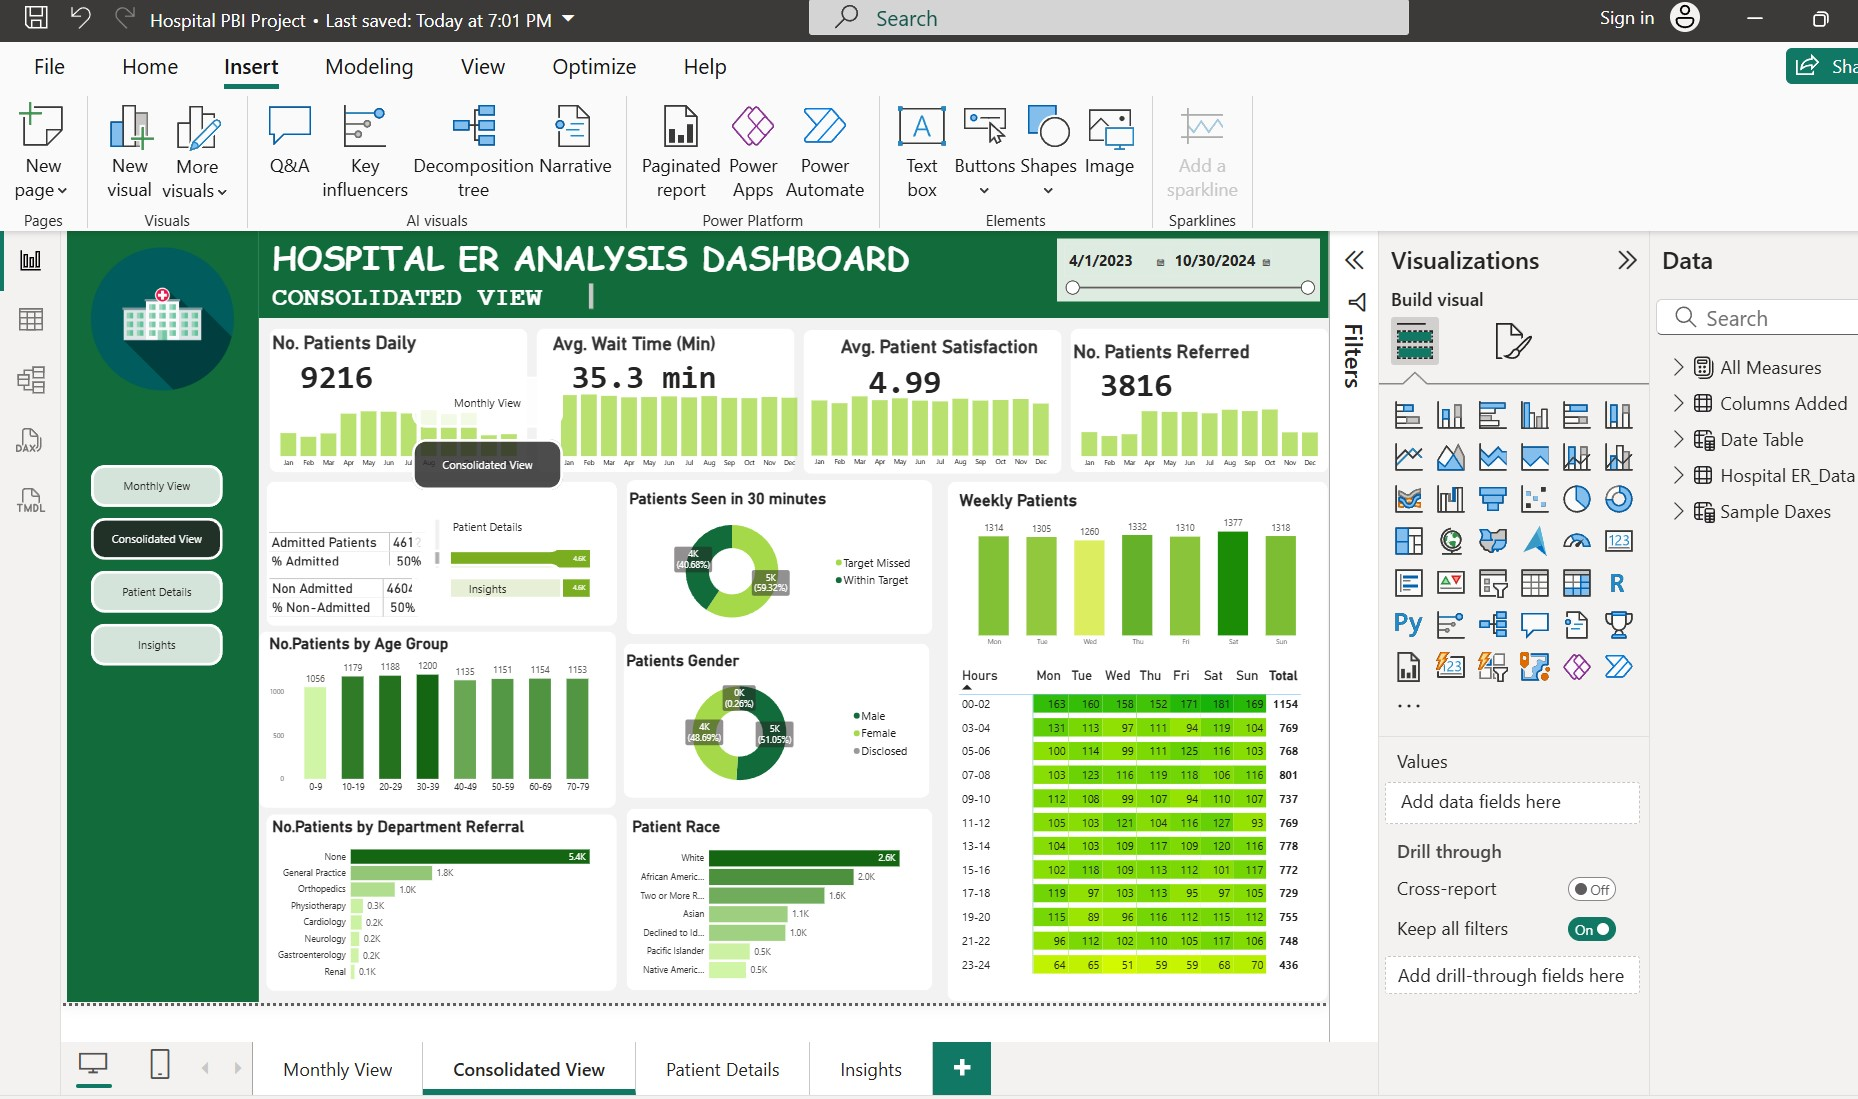

Layout of this report page (visuals, bound fields, positions):
{"tool":"powerbi","page":{"name":"Consolidated View","canvas":[2300,1400],"ordinal":1},"visuals":[{"type":"shape","box":[1025,452.5,555,280],"z":0},{"type":"shape","box":[10.9,0,348.3,1398.5],"z":1000},{"type":"shape","box":[359.2,0,1940,157.8],"z":2000},{"type":"textbox","box":[378.2,0,1276.1,108.8],"z":3000},{"type":"shape","box":[378.2,176.9,468,261.2],"z":4000},{"type":"card","fields":{"Values":["All Measures.No.of Patients"]},"box":[404.4,222.1,188.2,72.1],"z":5000},{"type":"slicer","fields":{"Values":["Date Table.Date"]},"box":[1806.6,13.6,476.1,114.3],"z":6000},{"type":"textbox","box":[377.5,90,592.5,60],"z":7000},{"type":"clusteredColumnChart","fields":{"Y":["All Measures.No.Patients"],"Category":["Date Table.Month Name"]},"box":[378,273.2,468.3,165.9],"z":8000},{"type":"textbox","box":[378,178,429.3,58.5],"z":9000},{"type":"shape","box":[862.5,178,468.3,261],"z":10000},{"type":"card","fields":{"Values":["All Measures.Ave Waiting"]},"box":[914.1,223.4,285.9,71.9],"z":11000},{"type":"clusteredColumnChart","fields":{"Y":["Hospital ER_Data.Patient Waittime"],"Category":["Date Table.Month Name"]},"box":[887.2,273.2,468.3,165.9],"z":12000},{"type":"textbox","box":[887.2,179.9,429.3,58.5],"z":13000},{"type":"shape","box":[1347.1,180.5,468.3,261],"z":14000},{"type":"card","fields":{"Values":["All Measures.Avg Satisfaction"]},"box":[1437.2,230.4,188.2,72.1],"z":15000},{"type":"clusteredColumnChart","fields":{"Y":["All Measures.Avg Satisfaction"],"Category":["Date Table.Month Name"]},"box":[1342.5,273.2,470,165],"z":16000},{"type":"textbox","box":[1409.8,185.4,397.6,58.5],"z":17000},{"type":"shape","box":[1831.7,178,468.3,261],"z":18000},{"type":"card","fields":{"Values":["All Measures.No.Referred"]},"box":[1856.9,235.6,188.2,72.1],"z":19000},{"type":"clusteredColumnChart","fields":{"Category":["Date Table.Month Name"],"Y":["All Measures.No.Referred"]},"box":[1830.6,273.2,468.3,165.9],"z":20000},{"type":"textbox","box":[1831.7,192.7,395.1,58.5],"z":21000},{"type":"shape","box":[371.4,454.8,635.7,261.9],"z":22000},{"type":"pivotTable","fields":{"Values":["All Measures.Admitted Patients","All Measures.% Admitted"]},"box":[371.4,516.7,319,102.4],"z":23000},{"type":"pivotTable","fields":{"Values":["All Measures.Non Admitted","All Measures.% Non-Admitted"]},"box":[371.4,602.4,340.5,114.3],"z":24000},{"type":"barChart","fields":{"Category":["AdmissionStatus.Status"],"Y":["AdmissionStatus.Patients Count"]},"box":[702.5,537.5,287.5,160],"z":25000},{"type":"shape","box":[360,727.5,647.5,320],"z":26000},{"type":"clusteredColumnChart","title":"No.Patients by Age Group","fields":{"Category":["Hospital ER_Data.Age group Intervals"],"Y":["All Measures.No.Patients"]},"box":[372.5,732.5,617.5,297.5],"z":27000},{"type":"shape","box":[372.5,1057.5,635,320],"z":28000},{"type":"clusteredBarChart","fields":{"Category":["Hospital ER_Data.Department Referral"],"Y":["All Measures.No.Patients"]},"box":[377.5,1062.5,612.5,310],"z":29000},{"type":"donutChart","title":"Patients Seen in 30 minutes","fields":{"Category":["Hospital ER_Data.Waittime Status"],"Y":["All Measures.No.Patients"]},"box":[1025,467.5,530,265],"z":30000},{"type":"shape","box":[1021.7,747.5,555,280],"z":31000},{"type":"donutChart","title":"Patients Gender","fields":{"Y":["All Measures.No.Patients"],"Category":["Hospital ER_Data.Patient Gender"]},"box":[1021.7,762.5,530,265],"z":32000},{"type":"shape","box":[1025,1047.5,555,330],"z":33000},{"type":"clusteredBarChart","title":"Patient Race","fields":{"Y":["All Measures.No.Patients"],"Category":["Hospital ER_Data.Patient Race"]},"box":[1032.5,1062.5,522.5,310],"z":34000},{"type":"shape","box":[1607.5,455,690,942.5],"z":35000},{"type":"pivotTable","fields":{"Rows":["Hospital ER_Data.Hour Interval"],"Columns":["Date Table.Day Name"],"Values":["All Measures.No.Patients"]},"box":[1625,782.5,657.5,572.5],"z":36000},{"type":"clusteredColumnChart","title":"Weekly Patients","fields":{"Y":["All Measures.No.Patients"],"Category":["Date Table.Day Name"]},"box":[1625,470,657.5,292.5],"z":37000},{"type":"group","id":"g1","title":"Group 1","box":[637,265.2,274.8,433.5],"z":38000},{"type":"pageNavigator","box":[637,265.2,274.8,433.5],"z":39000,"group":"g1"},{"type":"pageNavigator","box":[53.1,425.2,239.4,364.6],"z":40000},{"type":"image","box":[49,24.5,269.4,269.4],"z":40001}]}

Visuals, with their boxes on the page's 2300x1400 design canvas (x1, y1, x2, y2). These are canvas units, not pixel positions in the 1858x1099 screenshot, which may show the page scaled, cropped or inside an application window:
shape: box(1025, 452, 1580, 732)
shape: box(11, 0, 359, 1398)
shape: box(359, 0, 2299, 158)
textbox: box(378, 0, 1654, 109)
shape: box(378, 177, 846, 438)
card - All Measures.No.of Patients: box(404, 222, 593, 294)
slicer - Date Table.Date: box(1807, 14, 2283, 128)
textbox: box(378, 90, 970, 150)
clusteredColumnChart - All Measures.No.Patients x Date Table.Month Name: box(378, 273, 846, 439)
textbox: box(378, 178, 807, 236)
shape: box(862, 178, 1331, 439)
card - All Measures.Ave Waiting: box(914, 223, 1200, 295)
clusteredColumnChart - Hospital ER_Data.Patient Waittime x Date Table.Month Name: box(887, 273, 1356, 439)
textbox: box(887, 180, 1316, 238)
shape: box(1347, 180, 1815, 442)
card - All Measures.Avg Satisfaction: box(1437, 230, 1625, 302)
clusteredColumnChart - All Measures.Avg Satisfaction x Date Table.Month Name: box(1342, 273, 1812, 438)
textbox: box(1410, 185, 1807, 244)
shape: box(1832, 178, 2300, 439)
card - All Measures.No.Referred: box(1857, 236, 2045, 308)
clusteredColumnChart - Date Table.Month Name x All Measures.No.Referred: box(1831, 273, 2299, 439)
textbox: box(1832, 193, 2227, 251)
shape: box(371, 455, 1007, 717)
pivotTable - All Measures.Admitted Patients x All Measures.% Admitted: box(371, 517, 690, 619)
pivotTable - All Measures.Non Admitted x All Measures.% Non-Admitted: box(371, 602, 712, 717)
barChart - AdmissionStatus.Status x AdmissionStatus.Patients Count: box(702, 538, 990, 698)
shape: box(360, 728, 1008, 1048)
"No.Patients by Age Group" clusteredColumnChart: box(372, 732, 990, 1030)
shape: box(372, 1058, 1008, 1378)
clusteredBarChart - Hospital ER_Data.Department Referral x All Measures.No.Patients: box(378, 1062, 990, 1372)
"Patients Seen in 30 minutes" donutChart: box(1025, 468, 1555, 732)
shape: box(1022, 748, 1577, 1028)
"Patients Gender" donutChart: box(1022, 762, 1552, 1028)
shape: box(1025, 1048, 1580, 1378)
"Patient Race" clusteredBarChart: box(1032, 1062, 1555, 1372)
shape: box(1608, 455, 2298, 1398)
pivotTable - Hospital ER_Data.Hour Interval x Date Table.Day Name: box(1625, 782, 2282, 1355)
"Weekly Patients" clusteredColumnChart: box(1625, 470, 2282, 762)
"Group 1" group: box(637, 265, 912, 699)
pageNavigator: box(637, 265, 912, 699)
pageNavigator: box(53, 425, 292, 790)
image: box(49, 24, 318, 294)
